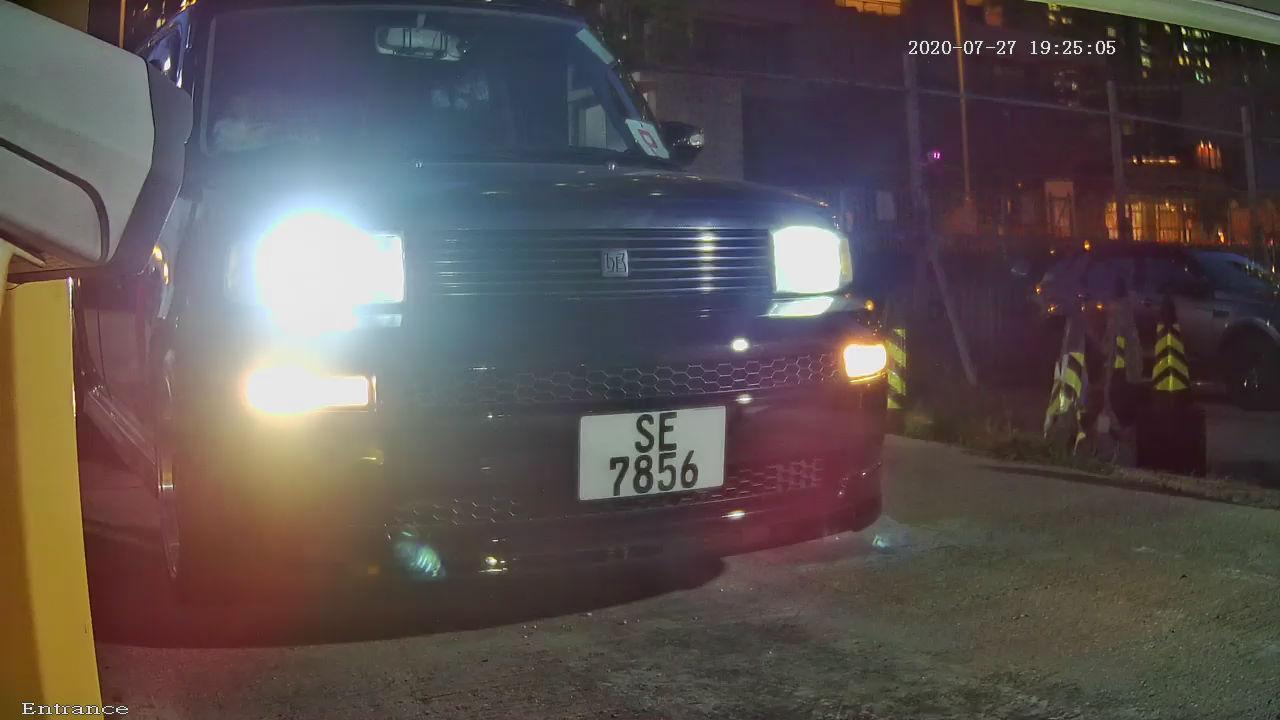privatecar: (92, 20, 961, 631)
